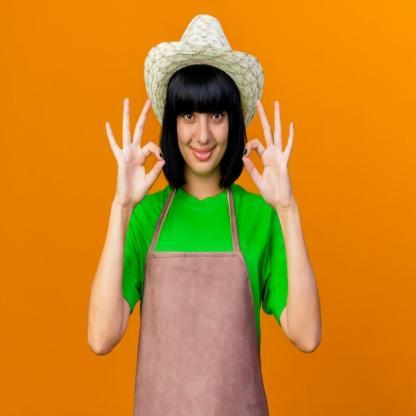ok: (104, 92, 166, 208), (243, 95, 298, 208)
